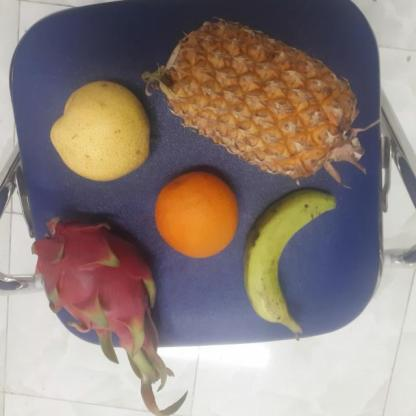banana: (245, 190, 333, 331)
orange: (153, 172, 243, 259)
pear: (48, 81, 159, 180)
pineapple: (158, 21, 367, 184)
pitaya: (38, 212, 164, 350)
